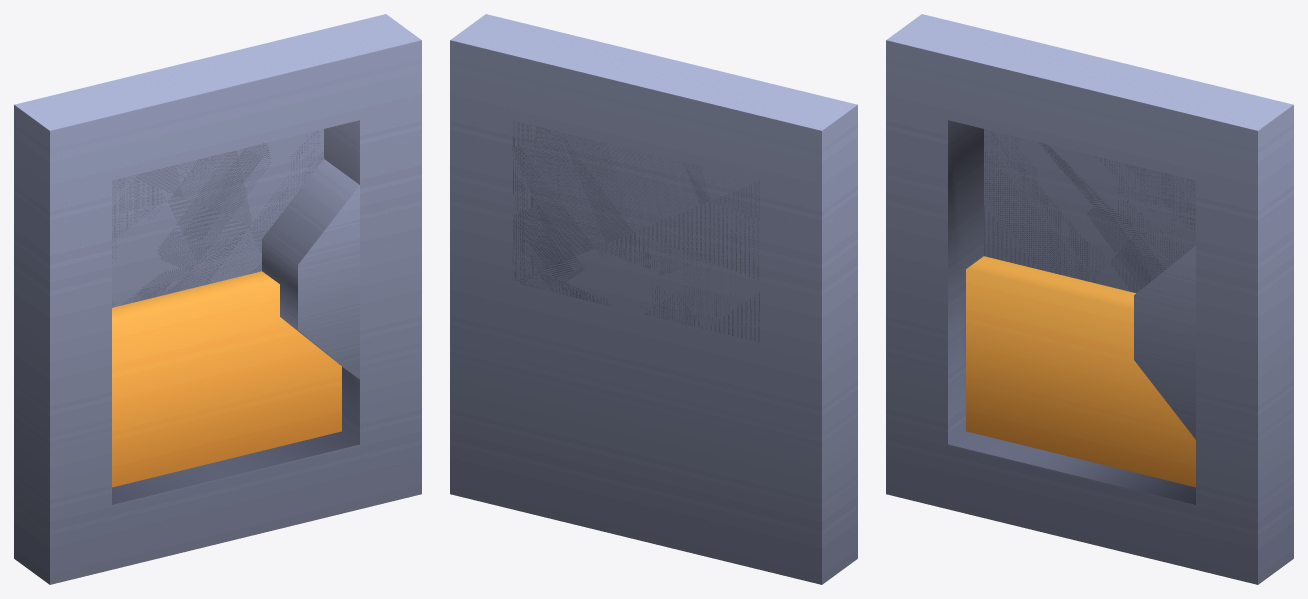
Rendered from door-double-closed.glb.
3 views of the same model, side by side, from view 1: azimuth 30°, elevation 25°; view 2: azimuth 150°, elevation 25°; view 3: azimuth 330°, elevation 25° (orthographic).
Visible parts, largest first — view 1: door-double-closed, Group; view 2: door-double-closed; view 3: door-double-closed, Group.
Boxes of the visible parts, x1,y1,x2,y2 form: door-double-closed: (14,14,421,584); Group: (262,159,359,379); door-double-closed: (450,14,857,584); door-double-closed: (886,14,1293,584); Group: (1134,246,1195,439).
Size of the model in its own units: 0.6 by 0.7 by 0.1.
Materials: 1 (1 with a texture image).
